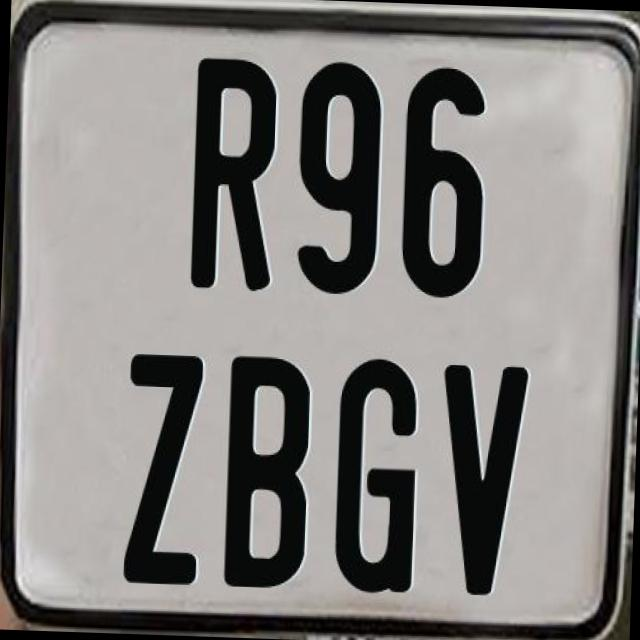6: (400, 61, 488, 302)
9: (292, 59, 379, 302)
B: (221, 353, 311, 593)
G: (332, 352, 418, 592)
R: (188, 56, 278, 294)
V: (433, 360, 532, 600)
Z: (122, 350, 206, 591)
